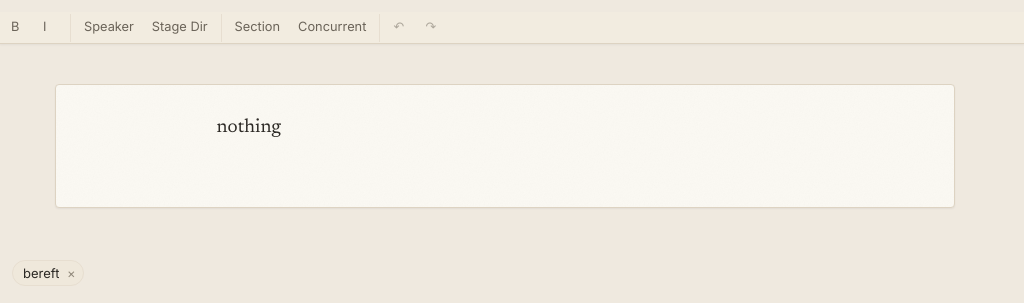
Test case: Inventory chips insert at the caret (C-42) › T-14.30: clicking a chip inserts its text into the live draft
Expected: the field labelled "nothing" is shown, [54,84,954,208]
Click the button with test id "inventory-chip-insert" at x=41, y=273, box [23,265,59,282]
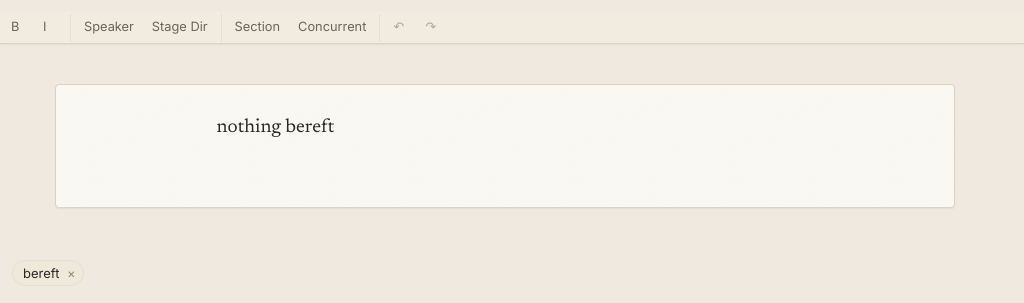
Result: the field labelled "nothing bereft" is shown at [54,84,954,208]
